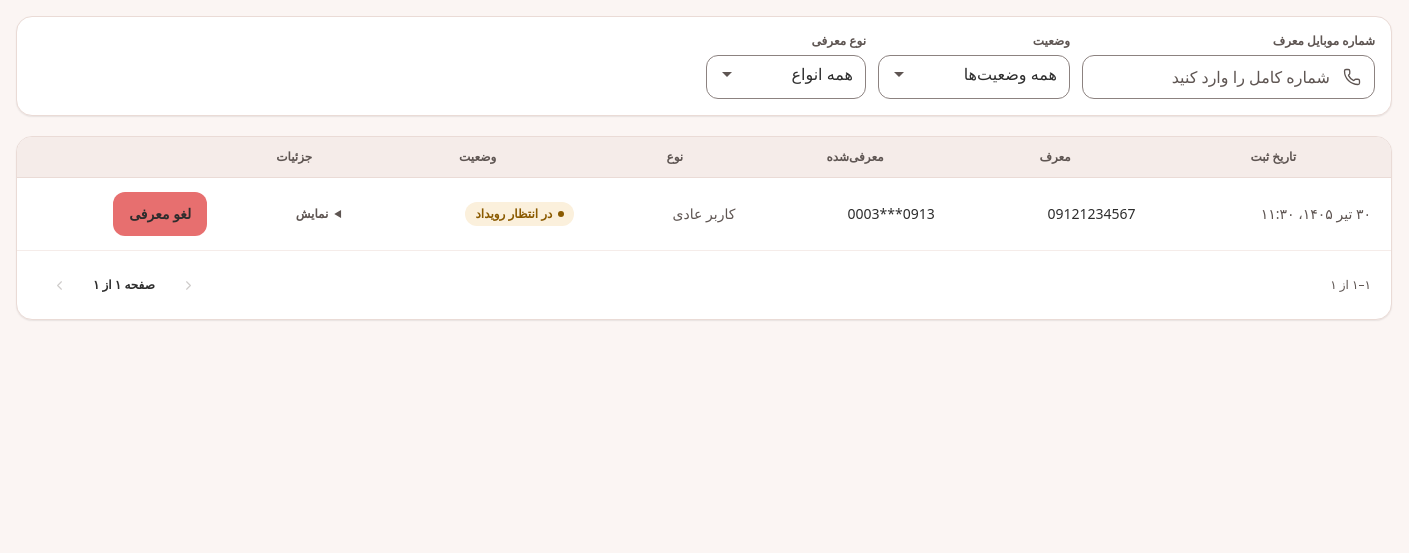
Test: ReferralsView › a failed rewards fetch shows an error with retry, never "هنوز اعطا نشده", and is not cached
Click the heading "نمایش" at point(312, 214), box [296, 205, 328, 222]
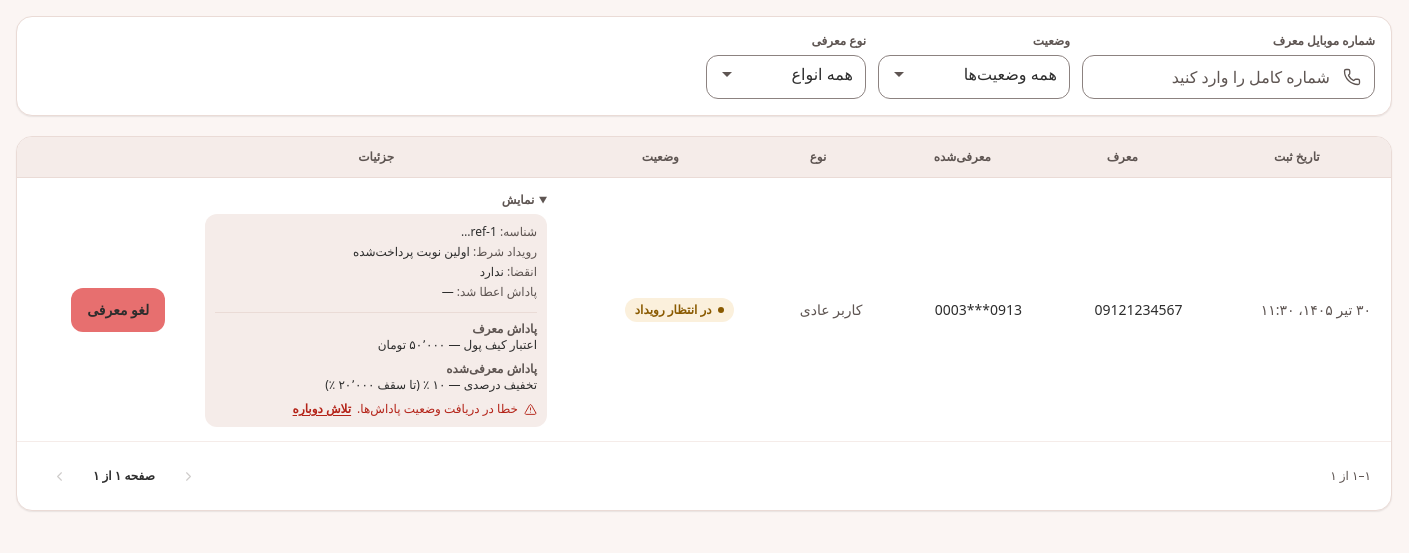
Check: the element with test id "referral-details" does not show "هنوز اعطا نشده"
Check: the element with test id "rewards-load-error" is shown, box [293, 400, 537, 417]
Click the button with test id "rewards-retry" at point(322, 409), box [293, 401, 351, 417]
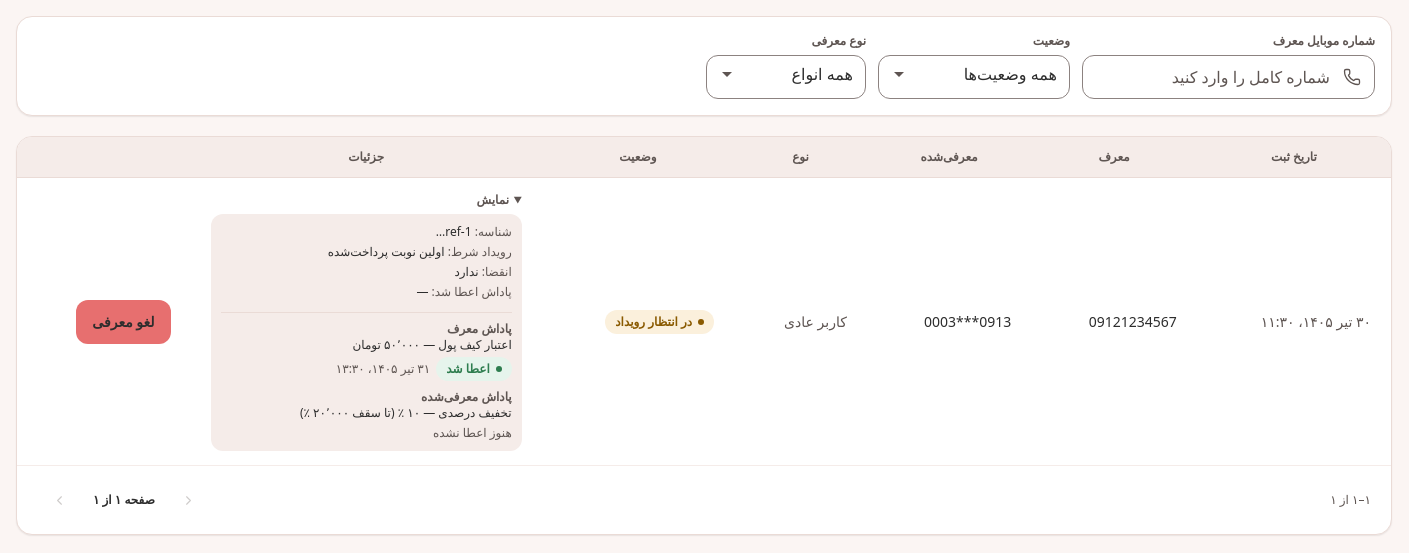
Check: the element with test id "reward-status-referrer" shows "اعطا شد", box [446, 360, 490, 377]
Check: the element with test id "referral-details" shows "هنوز اعطا نشده", box [433, 424, 512, 441]
